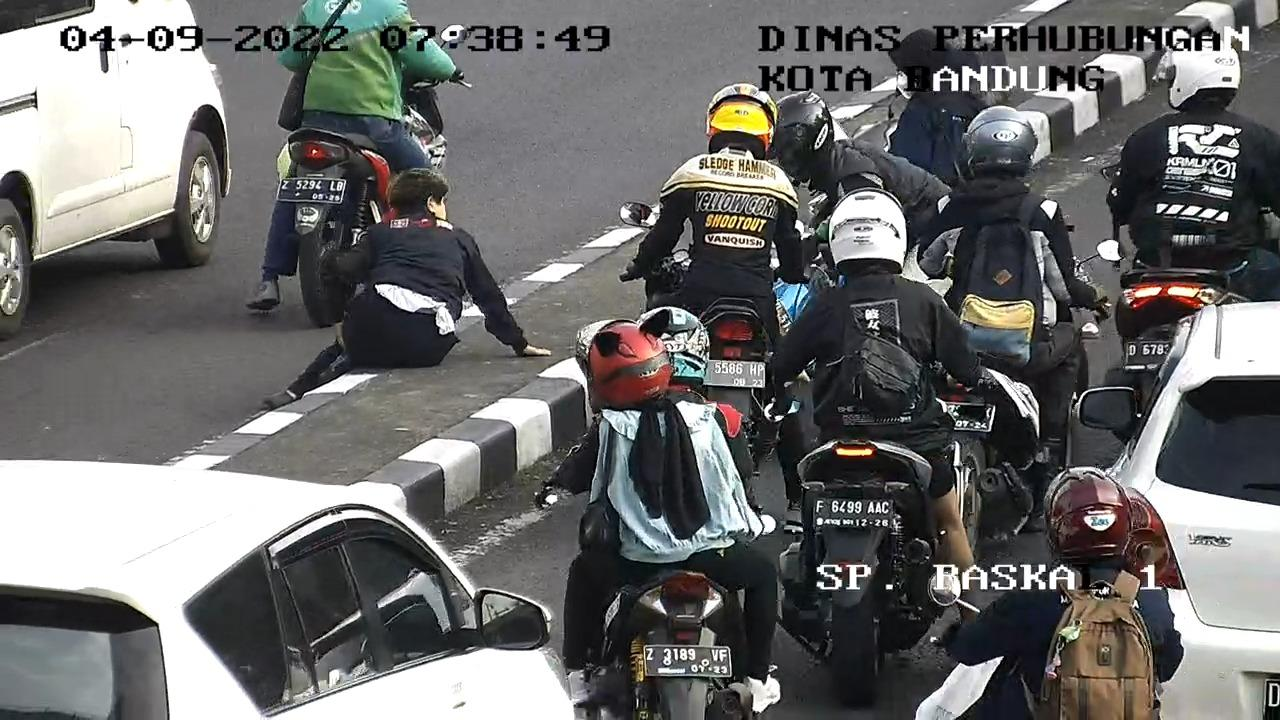accident: (262, 156, 563, 430)
